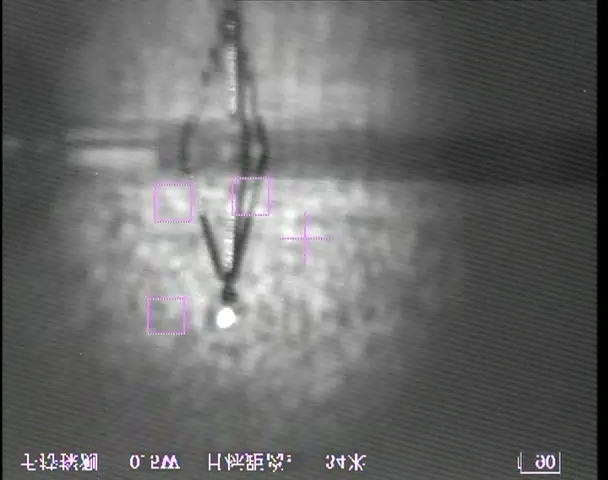my: (214, 307, 238, 331)
